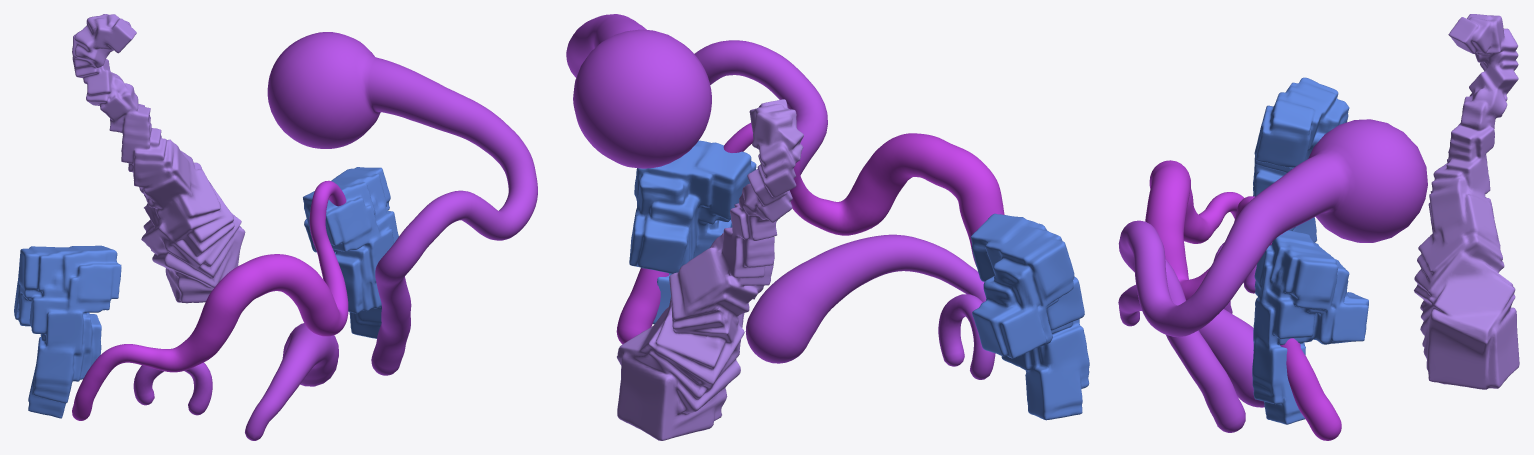
Rendered from flooritems.glb.
3 views of the same model, side by side, from view 1: azimuth 30°, elevation 25°; view 2: azimuth 150°, elevation 25°; view 3: azimuth 270°, elevation 25° (orthographic). The views are drawn at different scales.
Visible parts, largest first — view 1: Retopo_Layer_6, Retopo_Layer_20, Retopo_Layer_5.001, Retopo_Layer_19.002, Retopo_Layer_19.001; view 2: Retopo_Layer_6, Retopo_Layer_20, Retopo_Layer_19.002, Retopo_Layer_5.001, Retopo_Layer_19.001; view 3: Retopo_Layer_6, Retopo_Layer_20, Retopo_Layer_19.001, Retopo_Layer_5.001, Retopo_Layer_19.002.
Part boxes in pixels (left/top/right/bottom): Retopo_Layer_6: left=133, top=32, right=537, bottom=440; Retopo_Layer_20: left=72, top=14, right=245, bottom=303; Retopo_Layer_5.001: left=72, top=180, right=348, bottom=420; Retopo_Layer_19.002: left=14, top=245, right=121, bottom=418; Retopo_Layer_19.001: left=303, top=167, right=398, bottom=338; Retopo_Layer_6: left=566, top=14, right=995, bottom=379; Retopo_Layer_20: left=617, top=99, right=803, bottom=440; Retopo_Layer_19.002: left=970, top=213, right=1089, bottom=420; Retopo_Layer_5.001: left=616, top=123, right=1004, bottom=344; Retopo_Layer_19.001: left=629, top=140, right=756, bottom=324; Retopo_Layer_6: left=1118, top=119, right=1427, bottom=432; Retopo_Layer_20: left=1414, top=14, right=1519, bottom=389; Retopo_Layer_19.001: left=1252, top=230, right=1368, bottom=424; Retopo_Layer_5.001: left=1145, top=160, right=1341, bottom=440; Retopo_Layer_19.002: left=1253, top=77, right=1349, bottom=242.
Size of the model in its own units: 27.55 by 17.67 by 19.13.
